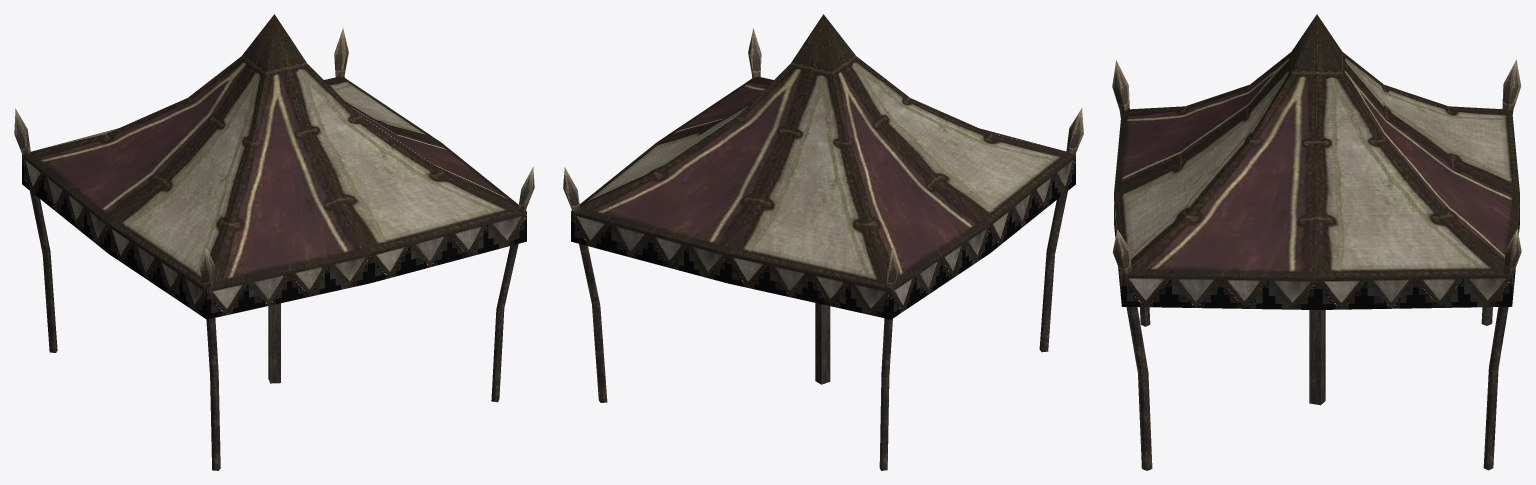
Rendered from eso_gu4_Tent1-transformed.glb.
3 views of the same model, side by side, from view 1: azimuth 30°, elevation 25°; view 2: azimuth 150°, elevation 25°; view 3: azimuth 270°, elevation 25° (orthographic). The views are drawn at different scales.
Parts seen in each view (by area): view 1: default; view 2: default; view 3: default.
Part boxes in pixels (box(x1,y1,x2,y2)): default: box(14, 14, 534, 470); default: box(563, 14, 1083, 470); default: box(1112, 14, 1521, 470).
Size of the model in its own units: 6.85 by 7.17 by 6.85.
Materials: 1 (1 with a texture image).
